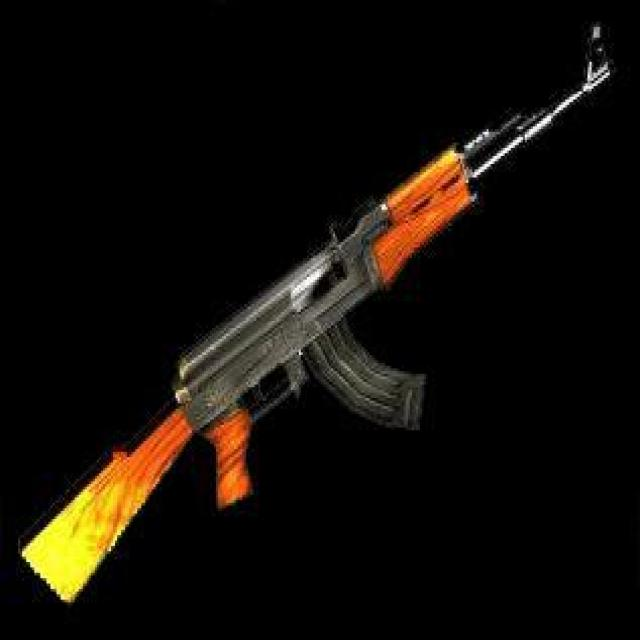Gun: (10, 22, 610, 605)
